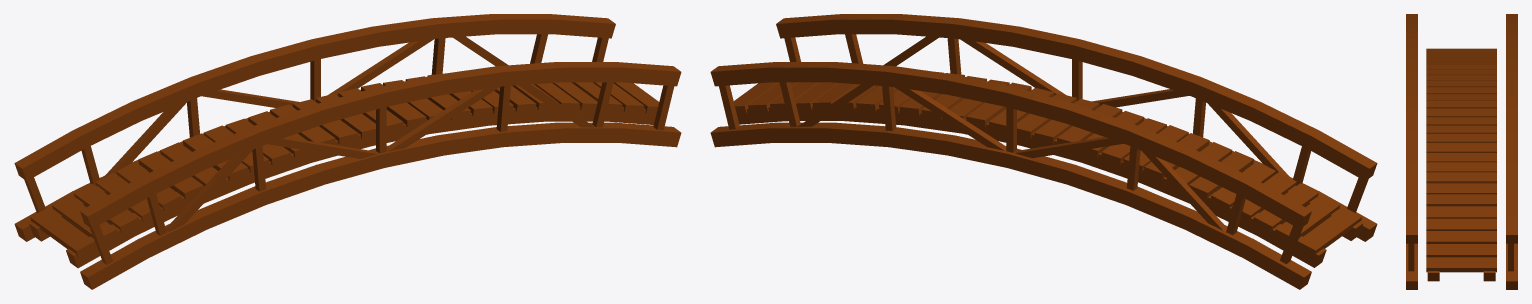
File: Bridge.fbx
3 views of the same model, side by side, from view 1: azimuth 30°, elevation 25°; view 2: azimuth 150°, elevation 25°; view 3: azimuth 270°, elevation 25° (orthographic). The views are drawn at different scales.
Visible parts, largest first — view 1: Wood Bridge; view 2: Wood Bridge; view 3: Wood Bridge.
Part boxes in pixels (x1=…): Wood Bridge: x1=14, y1=14, x2=681, y2=289; Wood Bridge: x1=710, y1=14, x2=1377, y2=289; Wood Bridge: x1=1406, y1=14, x2=1517, y2=289.
Bounding box in the file's own units: 1000 × 202 × 214.
